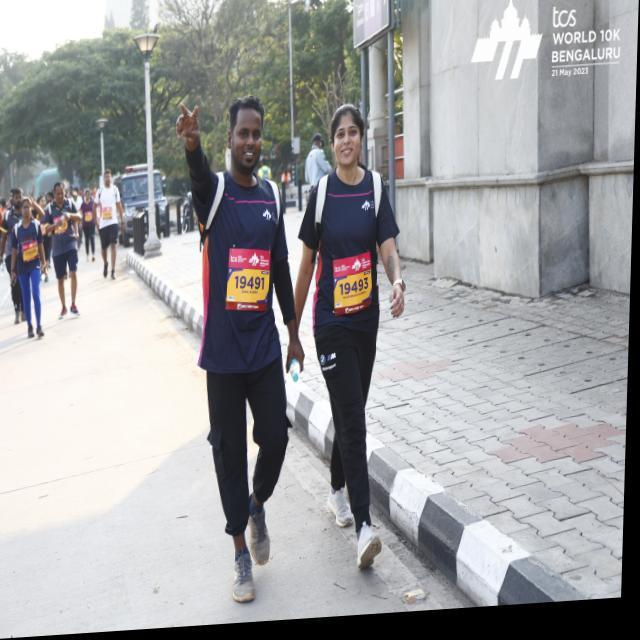dorsal: (229, 247, 274, 314), (332, 260, 378, 322)
